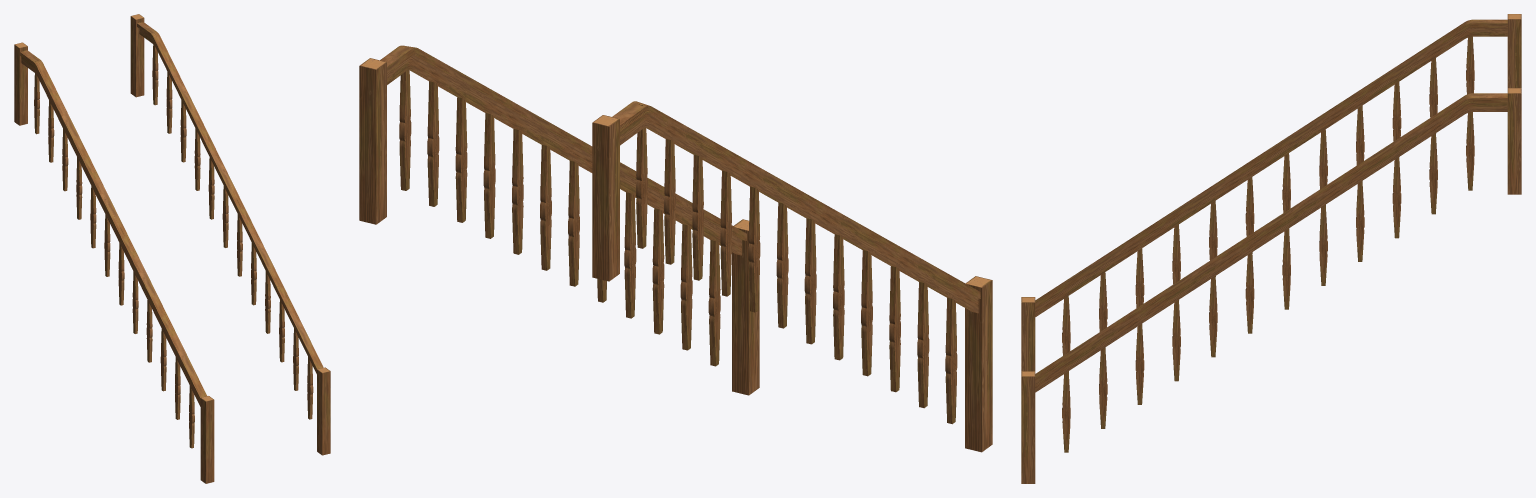
The model's file is Stair_Interior_Rails.glb.
3 views of the same model, side by side, from view 1: azimuth 30°, elevation 25°; view 2: azimuth 150°, elevation 25°; view 3: azimuth 270°, elevation 25° (orthographic). The views are drawn at different scales.
Visible parts, largest first — view 1: Stair_Interior_Rails; view 2: Stair_Interior_Rails; view 3: Stair_Interior_Rails.
Part boxes in pixels (left/top/right/bottom): Stair_Interior_Rails: left=14, top=14, right=330, bottom=483; Stair_Interior_Rails: left=359, top=45, right=992, bottom=452; Stair_Interior_Rails: left=1021, top=14, right=1521, bottom=483.
Size of the model in its own units: 1.72 by 3.93 by 4.56.
1 material, 1 textured.
